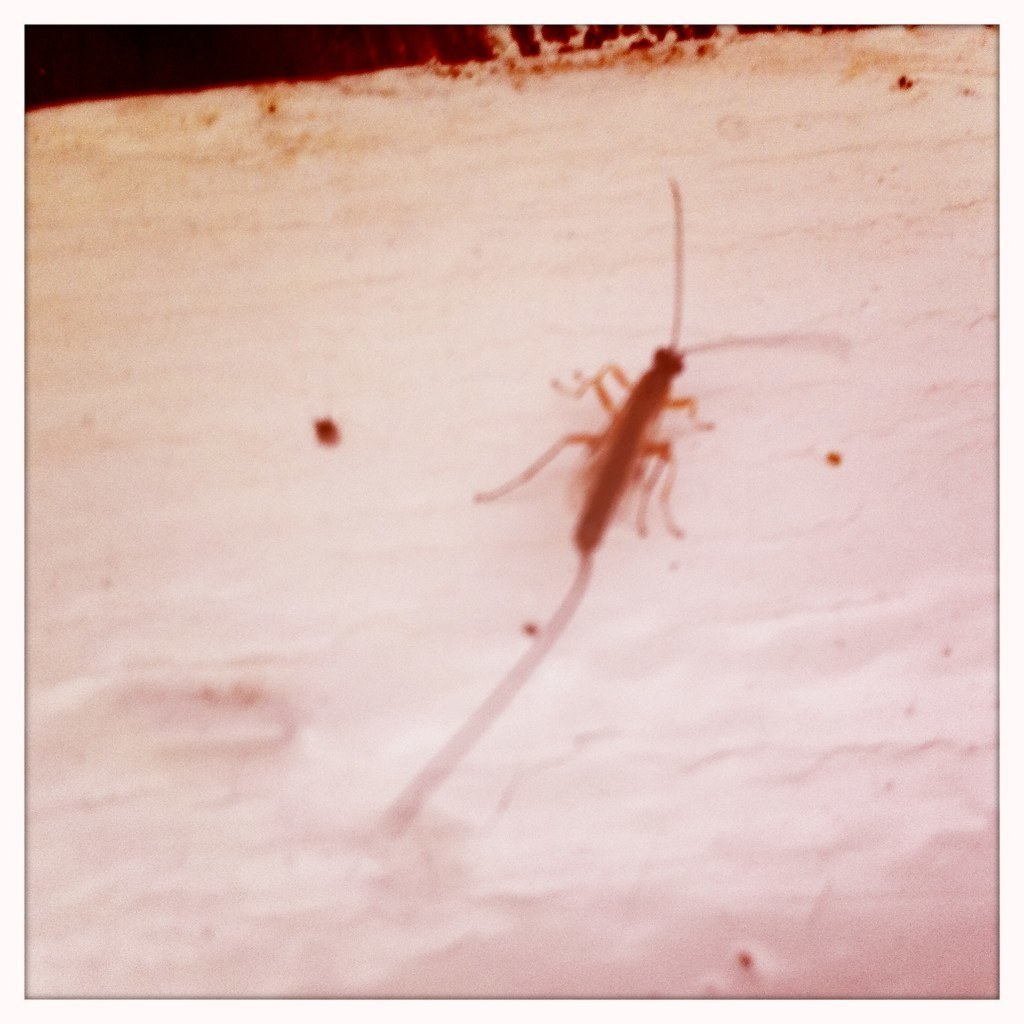insect: (382, 173, 839, 838), (465, 171, 839, 556)
